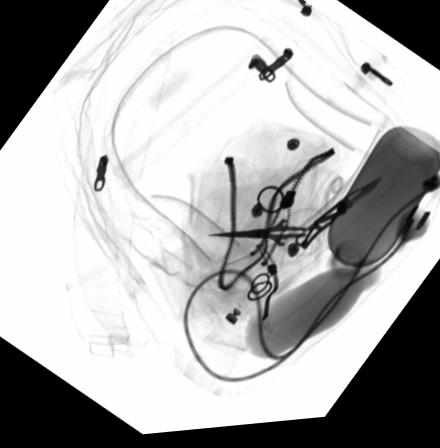Knife: (293, 182, 384, 254)
Scissors: (208, 211, 325, 262)
